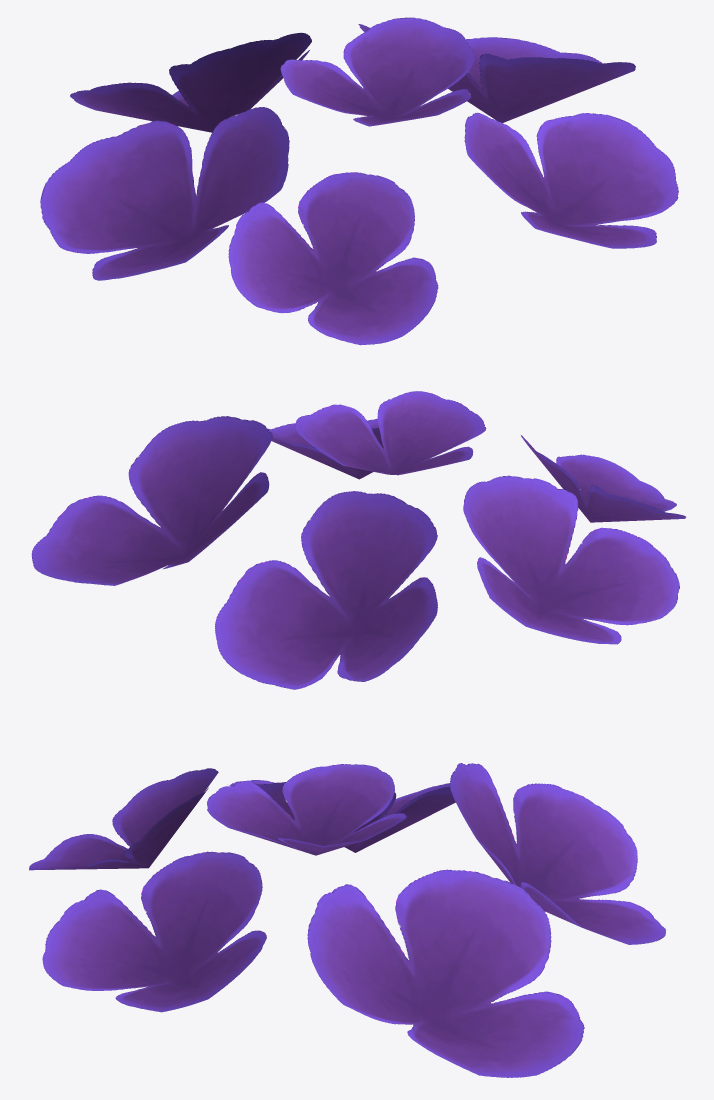
Rendered from Plant_7.gltf.
The picture shows the model from 3 angles, top to bottom: view 1: azimuth 30°, elevation 25°; view 2: azimuth 150°, elevation 25°; view 3: azimuth 270°, elevation 25°; orthographic projection. The views are drawn at different scales.
Visible parts, largest first — view 1: Plant_7; view 2: Plant_7; view 3: Plant_7.
Part boxes in pixels (<box>): Plant_7: <box>40,17,678,345</box>; Plant_7: <box>31,391,685,689</box>; Plant_7: <box>29,763,665,1077</box>.
Bounding box in the file's own units: 1.05 × 0.2495 × 0.9621.
1 material, 1 textured.
